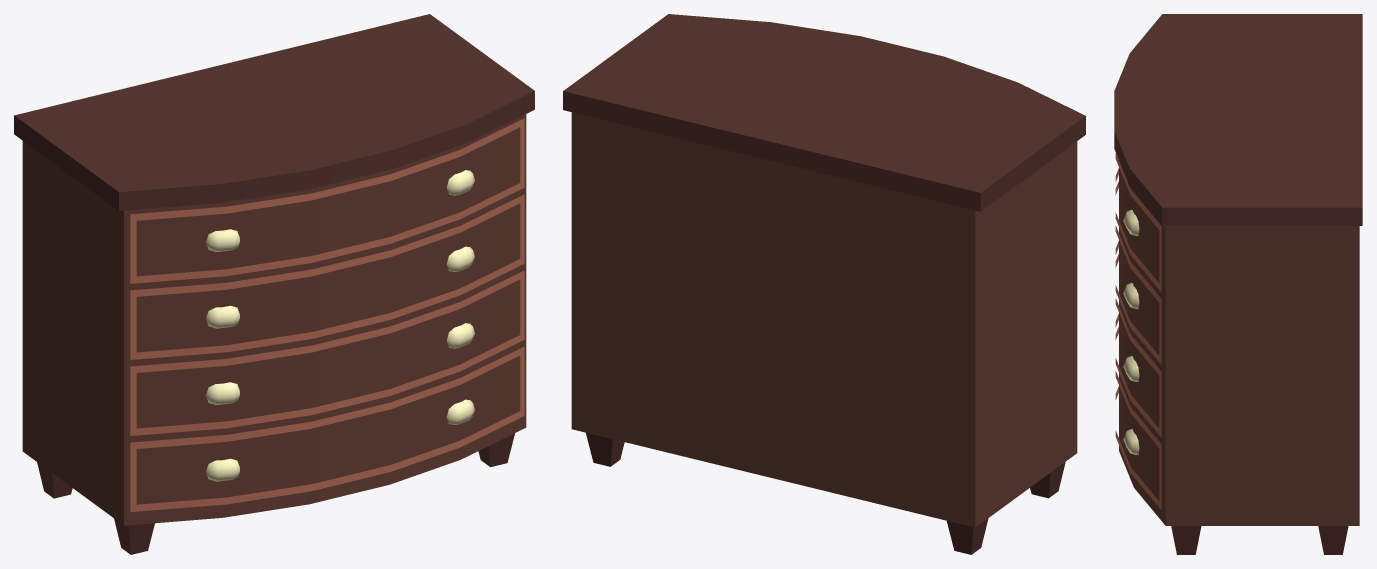
File: dresser.glb
3 renders of one model, left to right at view 1: azimuth 30°, elevation 25°; view 2: azimuth 150°, elevation 25°; view 3: azimuth 270°, elevation 25°, orthographic. The views are drawn at different scales.
Visible parts, largest first — view 1: dresser_001; view 2: dresser_001; view 3: dresser_001.
Boxes of the visible parts, left/top/right/bottom form: dresser_001: left=14, top=14, right=534, bottom=554; dresser_001: left=563, top=14, right=1085, bottom=554; dresser_001: left=1114, top=14, right=1362, bottom=554.
Size of the model in its own units: 1.19 by 1.02 by 0.6447.
1 material, 1 textured.
